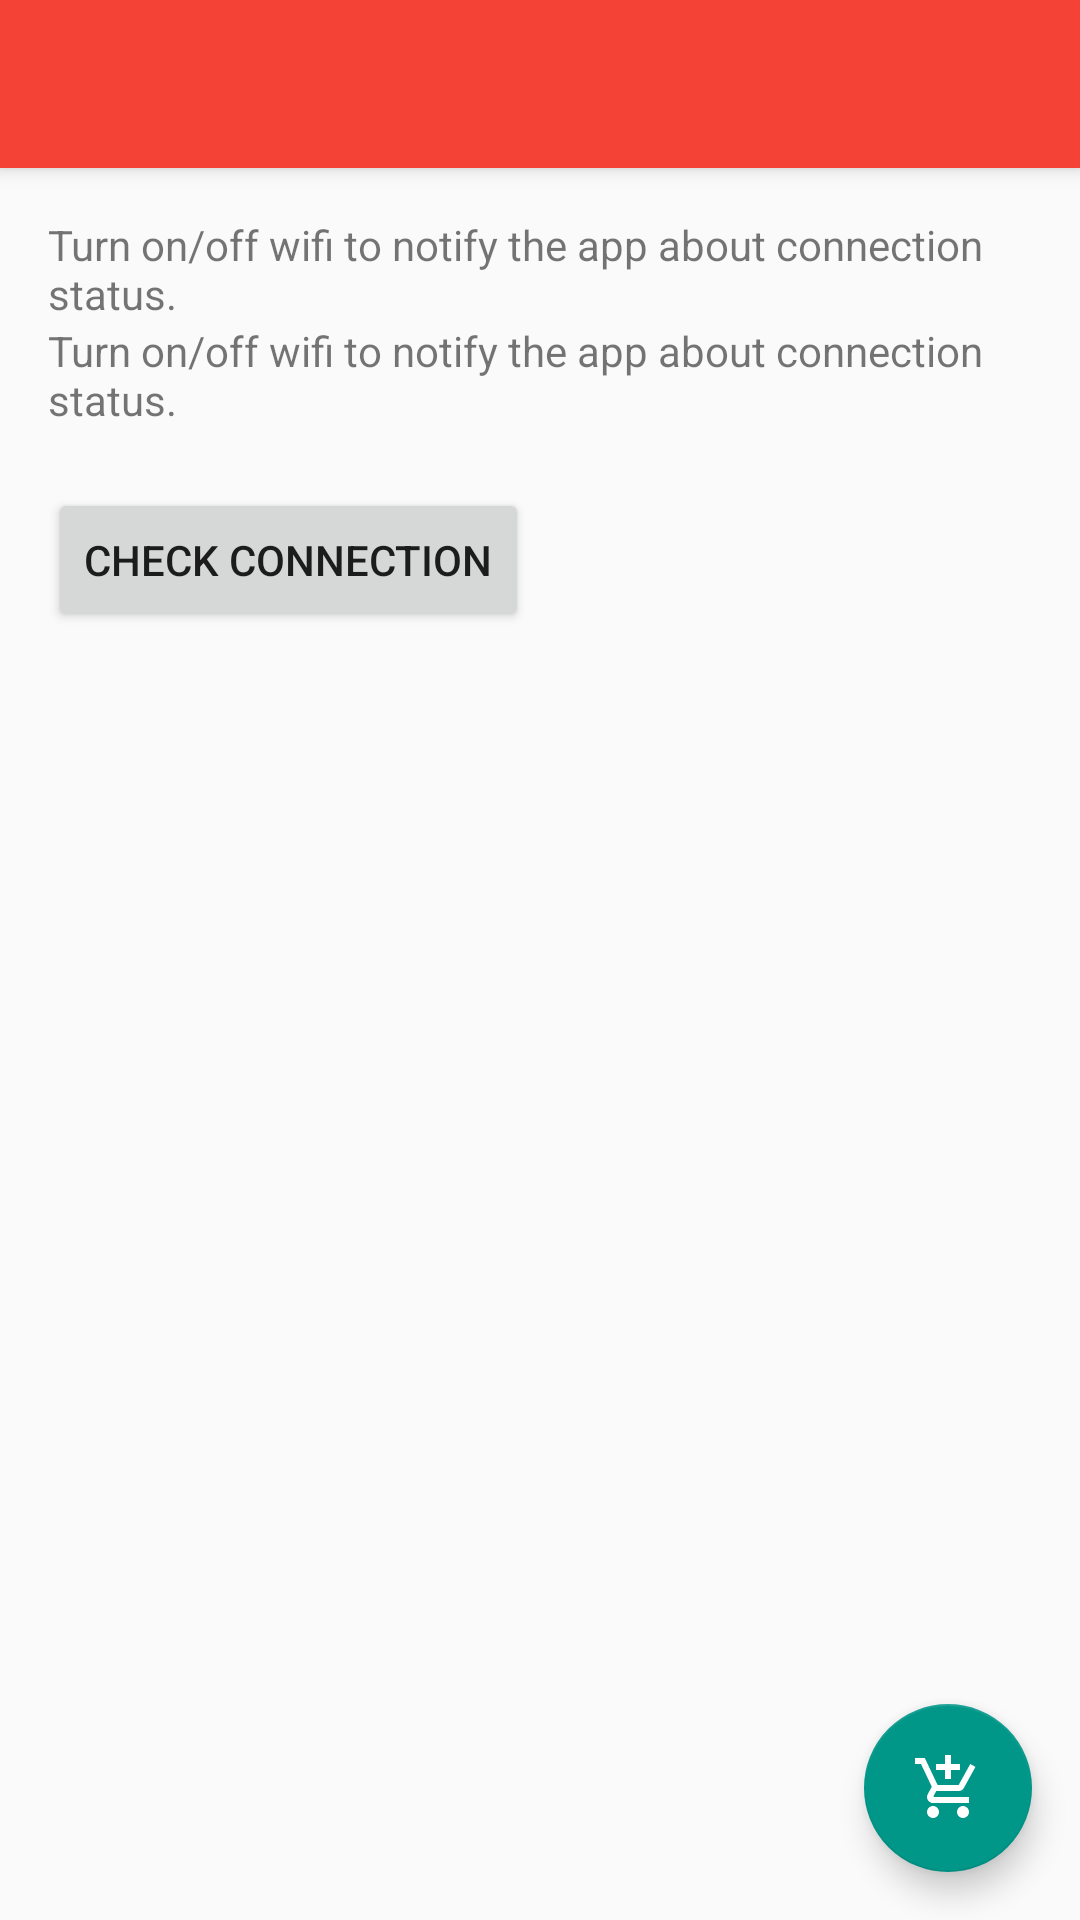

Icon bounding boxes for this 1080×1920 phone screenshot, format region(x1, y1, x2, y2):
add shopping cart: region(864, 1704, 1032, 1872)
